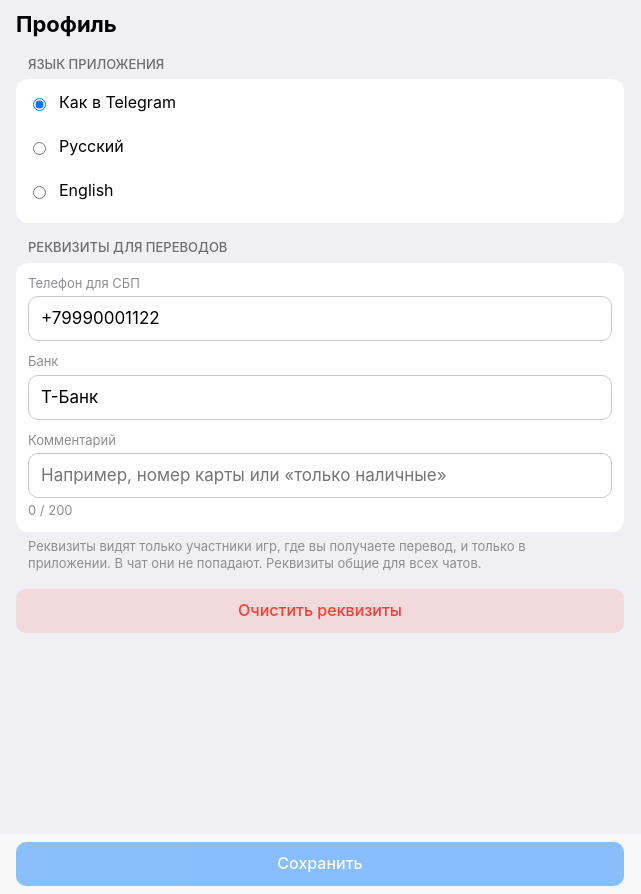
Test case: ProfilePage › clears all payment details after confirmation
This screenshot has width=641, height=894.
Click the button "Очистить реквизиты". click: (320, 611)
box: left=16, top=589, right=624, bottom=633
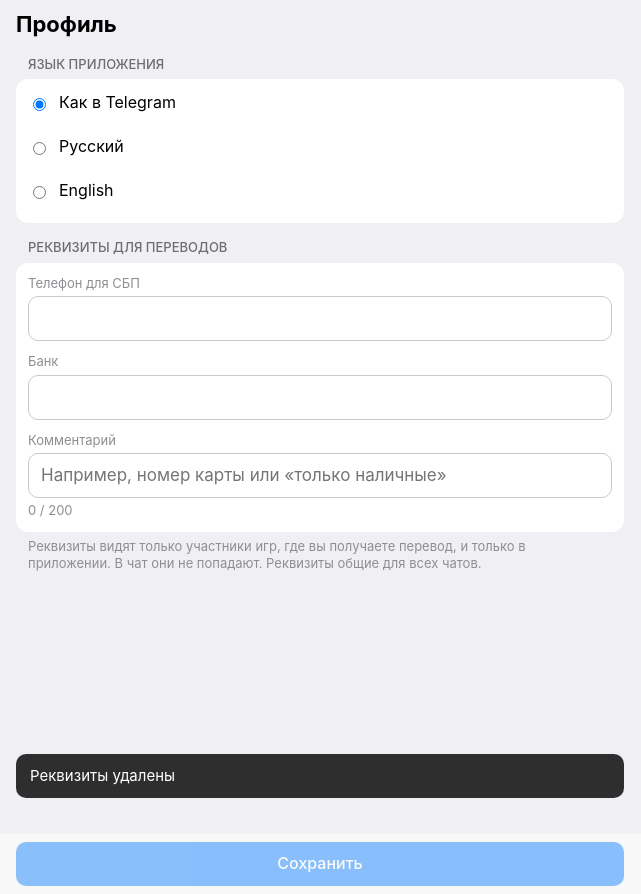
Check: the field labelled "Банк" is empty, box left=28, top=375, right=612, bottom=420
Check: the button "Очистить реквизиты" is gone
